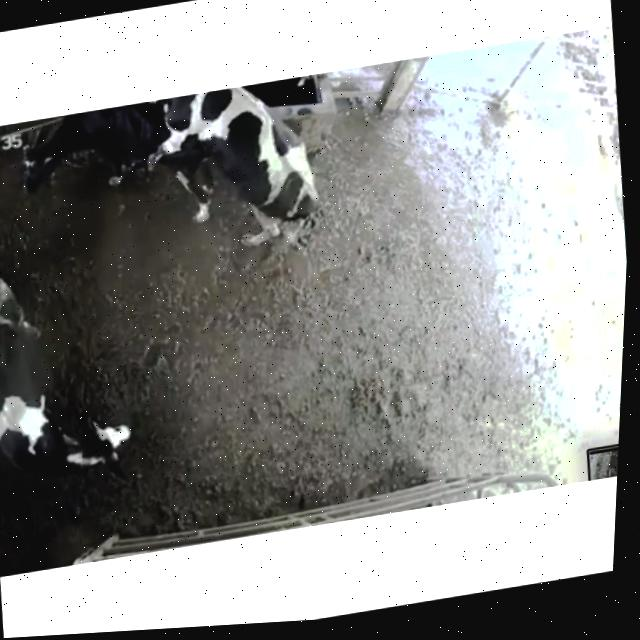ride: (95, 71, 342, 288)
